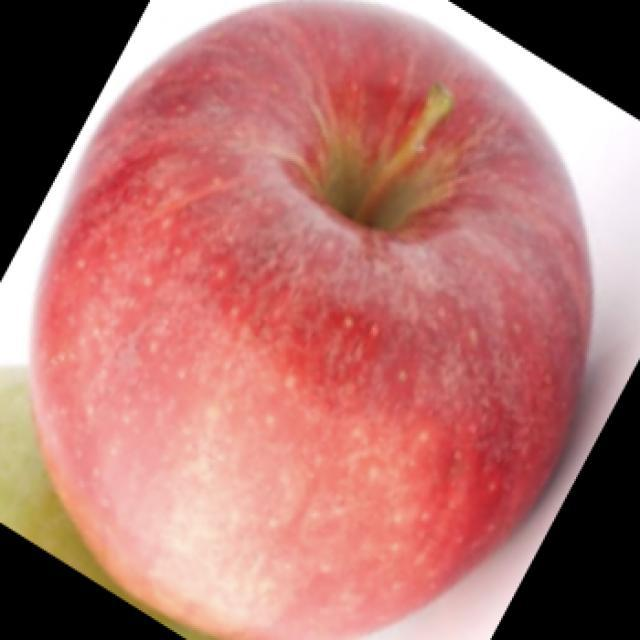Fresh Apple: (41, 15, 602, 637)
